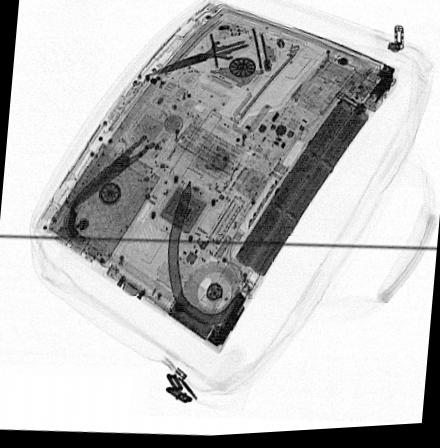Scissors: (144, 13, 275, 81), (64, 131, 151, 219)
